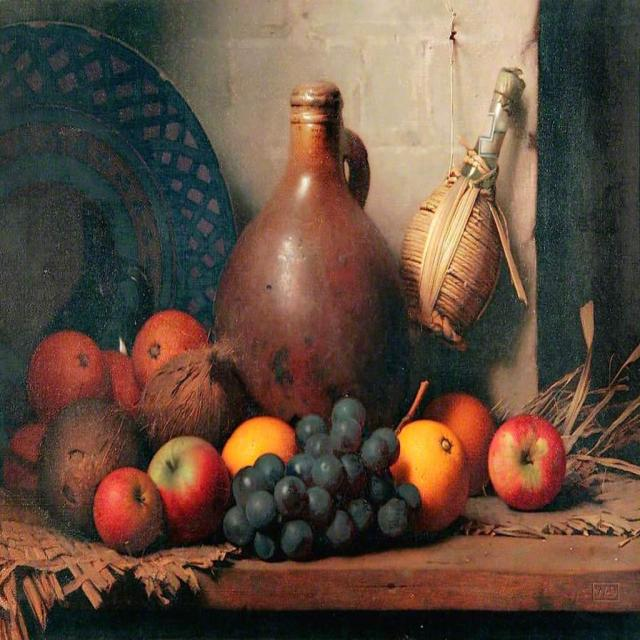Healty Apple: (146, 442, 223, 546), (93, 464, 166, 557), (489, 417, 563, 505)
